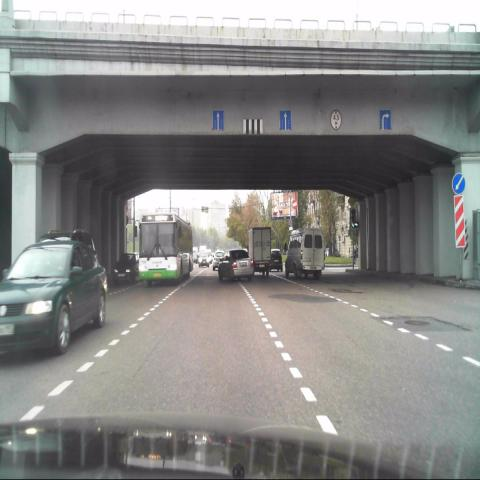4_2_2: (451, 170, 465, 194)
